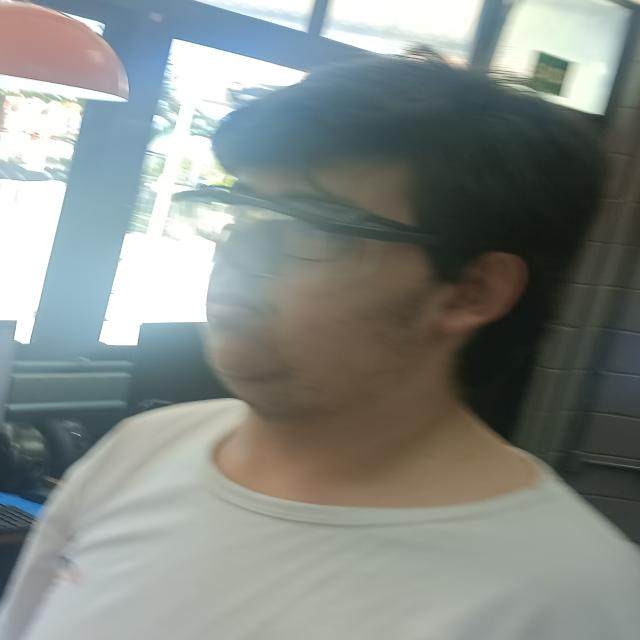oculos-epi: (170, 188, 440, 281)
